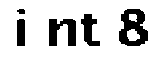8: (115, 7, 150, 50)
i: (12, 7, 33, 49)
n: (46, 14, 78, 51)
t: (80, 8, 107, 49)
